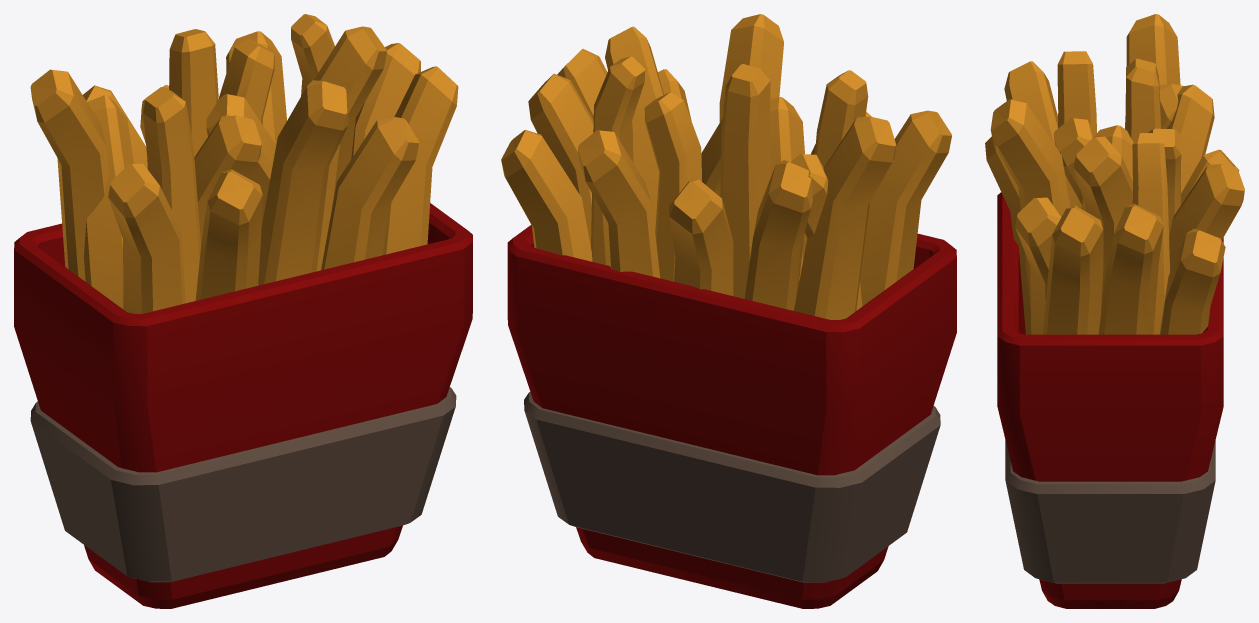
File: French fries.FBX
The picture shows the model from 3 angles, left to right: view 1: azimuth 30°, elevation 25°; view 2: azimuth 150°, elevation 25°; view 3: azimuth 270°, elevation 25°; orthographic projection. The views are drawn at different scales.
Parts seen in each view (by area): view 1: French fries; view 2: French fries; view 3: French fries.
Part boxes in pixels (box(x1,y1,x2,y2)): French fries: box(14, 14, 472, 608); French fries: box(501, 14, 956, 608); French fries: box(985, 14, 1244, 608).
Bounding box in the file's own units: 904 × 584 × 1180.
